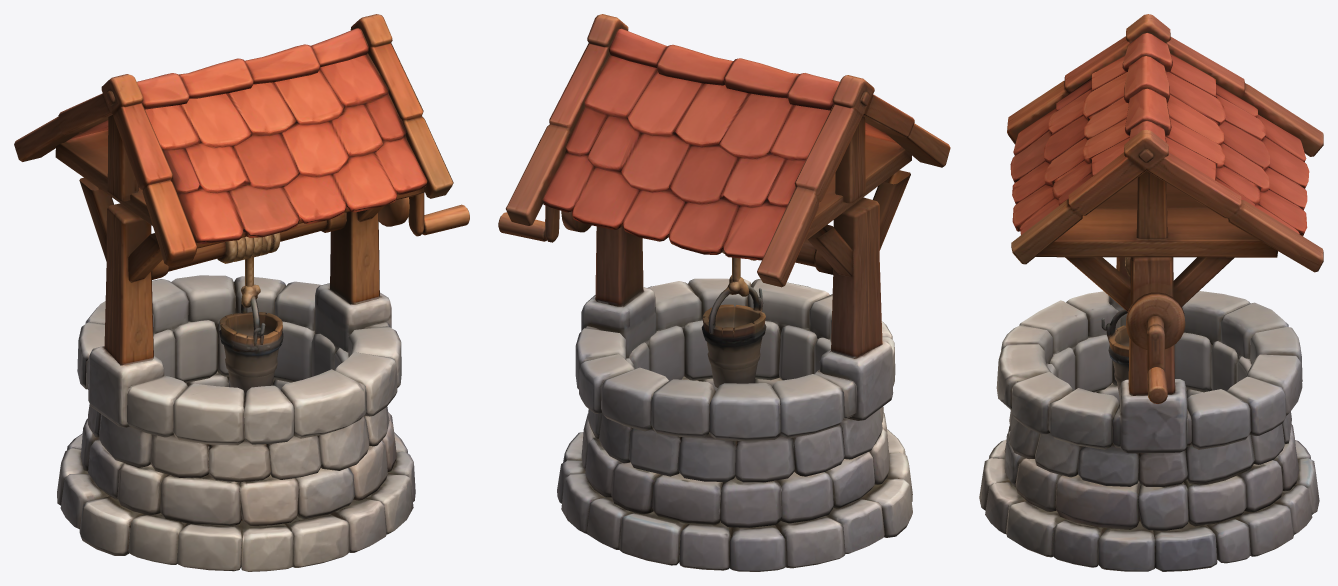
The model's file is well.glb.
The picture shows the model from 3 angles, left to right: view 1: azimuth 30°, elevation 25°; view 2: azimuth 150°, elevation 25°; view 3: azimuth 270°, elevation 25°; orthographic projection. The views are drawn at different scales.
Parts seen in each view (by area): view 1: tripo_node_f761f771-2694-4219-820c-7bc7bcd0a3fe; view 2: tripo_node_f761f771-2694-4219-820c-7bc7bcd0a3fe; view 3: tripo_node_f761f771-2694-4219-820c-7bc7bcd0a3fe.
Boxes of the visible parts, x1,y1,x2,y2 form: tripo_node_f761f771-2694-4219-820c-7bc7bcd0a3fe: [14, 14, 469, 571]; tripo_node_f761f771-2694-4219-820c-7bc7bcd0a3fe: [498, 14, 950, 571]; tripo_node_f761f771-2694-4219-820c-7bc7bcd0a3fe: [979, 14, 1323, 571].
Size of the model in its own units: 0.9009 by 0.9995 by 0.7212.
1 material, 1 textured.
